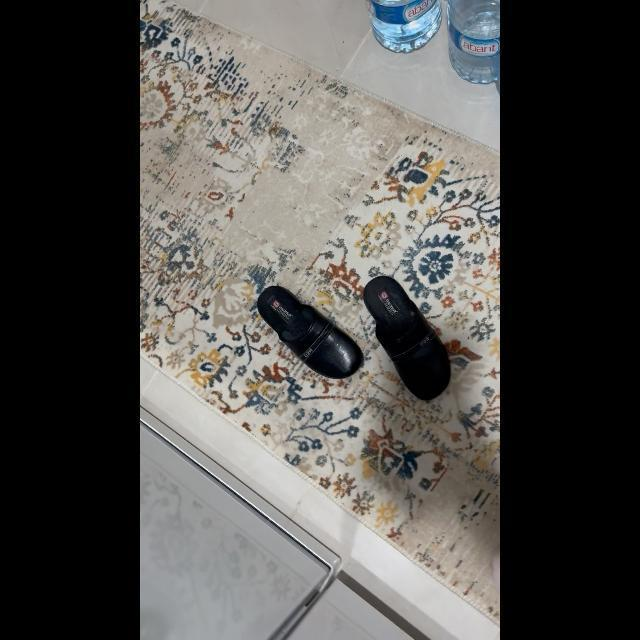slipper: (366, 270, 452, 404), (252, 284, 368, 382)
